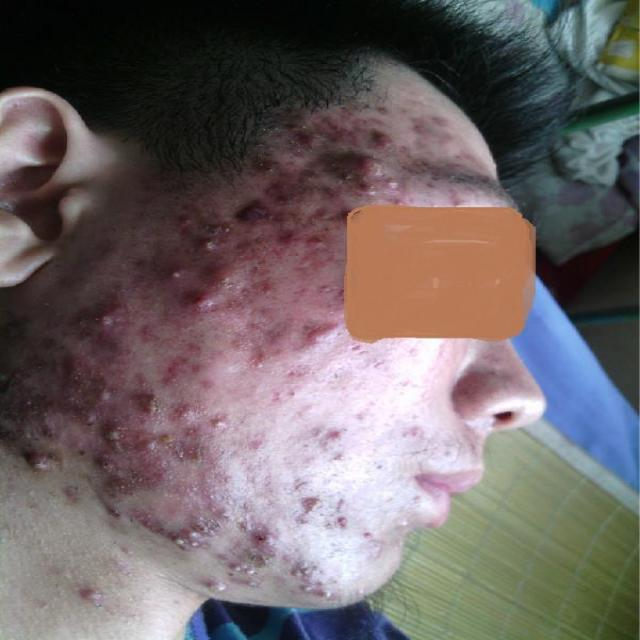nodule: (57, 395, 106, 441), (136, 258, 192, 296), (290, 574, 343, 612), (182, 564, 241, 597), (85, 378, 133, 414), (99, 298, 143, 336), (246, 524, 290, 557), (324, 511, 375, 538), (218, 553, 273, 578), (189, 232, 228, 267), (282, 361, 326, 392), (119, 386, 163, 417), (309, 421, 345, 456), (302, 234, 341, 266), (292, 322, 333, 352), (133, 434, 175, 462), (201, 500, 246, 526), (248, 354, 284, 386), (206, 219, 254, 242), (261, 177, 309, 199), (97, 432, 135, 459), (58, 351, 102, 374), (161, 354, 197, 381), (4, 386, 48, 408), (182, 293, 228, 314), (341, 104, 384, 126), (292, 496, 335, 518), (156, 524, 192, 550), (280, 128, 322, 150), (14, 415, 44, 445), (244, 322, 282, 344), (238, 199, 270, 225), (88, 452, 124, 474), (206, 269, 238, 293), (384, 166, 411, 194), (306, 201, 358, 215), (273, 206, 311, 225), (263, 228, 290, 254), (243, 307, 277, 327), (199, 406, 226, 431), (343, 153, 377, 171), (24, 450, 56, 469), (167, 401, 197, 421), (40, 421, 70, 441), (173, 205, 197, 229), (350, 177, 373, 202), (186, 522, 211, 544), (406, 120, 436, 138), (241, 434, 265, 456), (250, 151, 275, 170), (309, 117, 336, 133), (178, 438, 206, 453), (124, 258, 158, 268), (361, 128, 387, 141), (195, 374, 219, 386), (316, 156, 336, 170), (395, 417, 414, 430), (426, 104, 441, 120), (452, 148, 470, 157), (434, 134, 454, 142)
